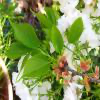Cherry leaf: (7, 16, 41, 49), (20, 53, 53, 82), (4, 41, 36, 61), (67, 15, 85, 46), (50, 22, 64, 55)
